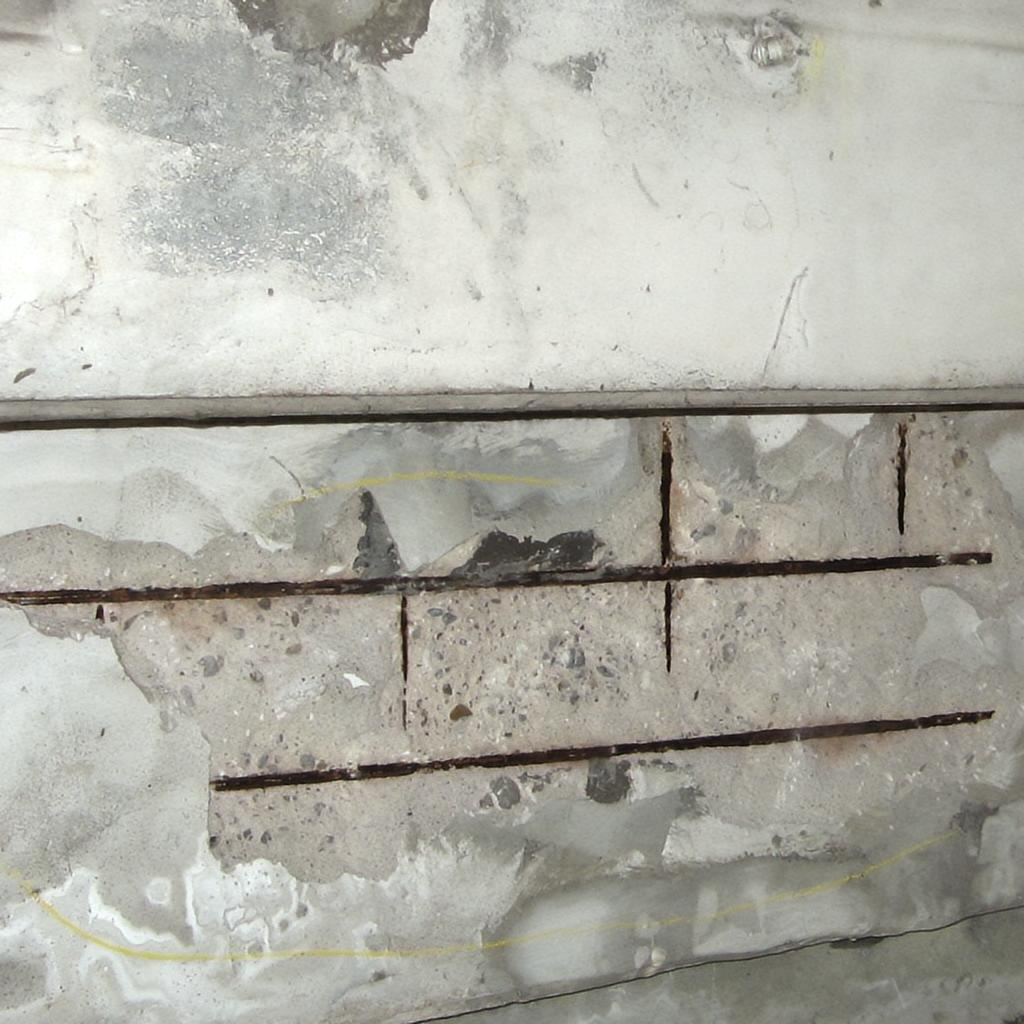exposed_rebar: (0, 420, 992, 733), (212, 710, 992, 790), (896, 418, 914, 543)
spalling: (0, 414, 1024, 880), (230, 0, 431, 63)
